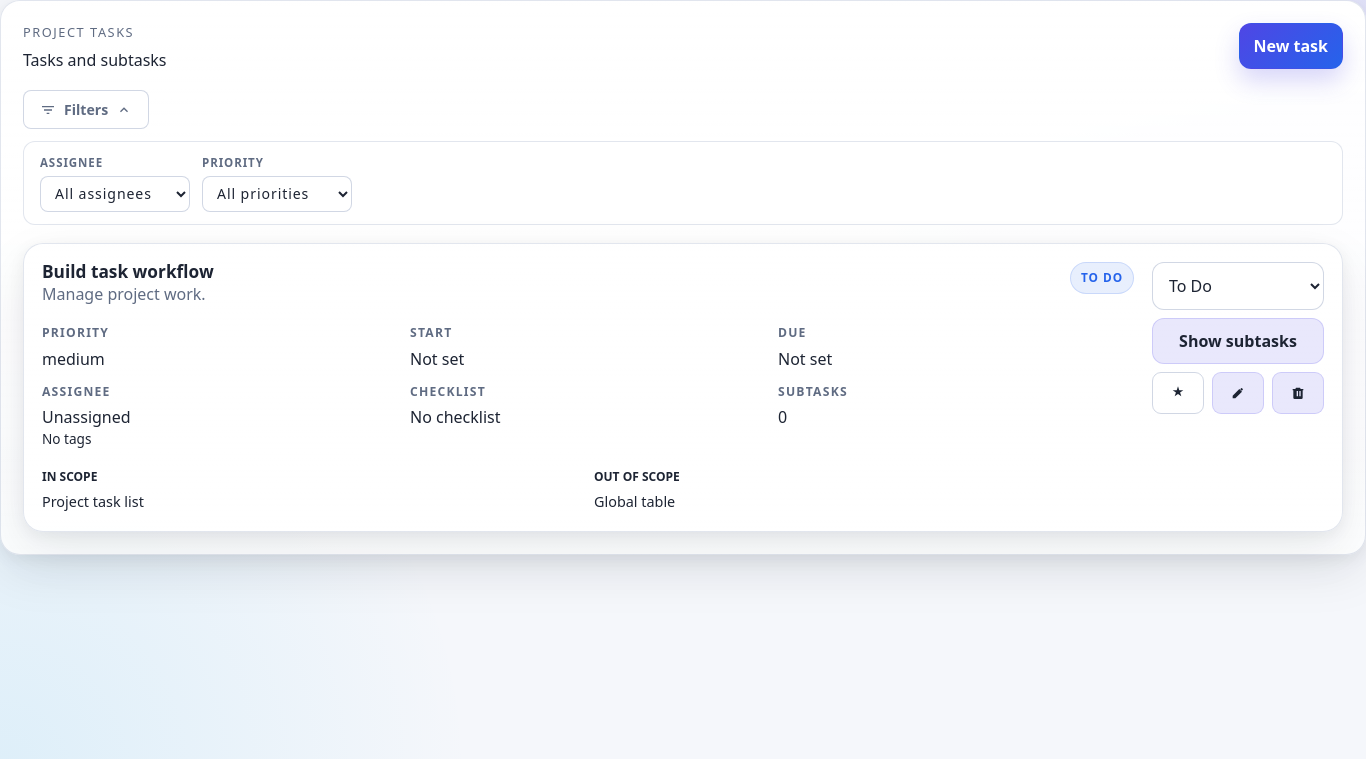
Test: ProjectTasksPanel subtask layout › opens subtask editing in a focused dialog and hides the active subtask actions underneath
Click the button "Show subtasks": (1238, 341) x1=1152 y1=318 x2=1324 y2=364
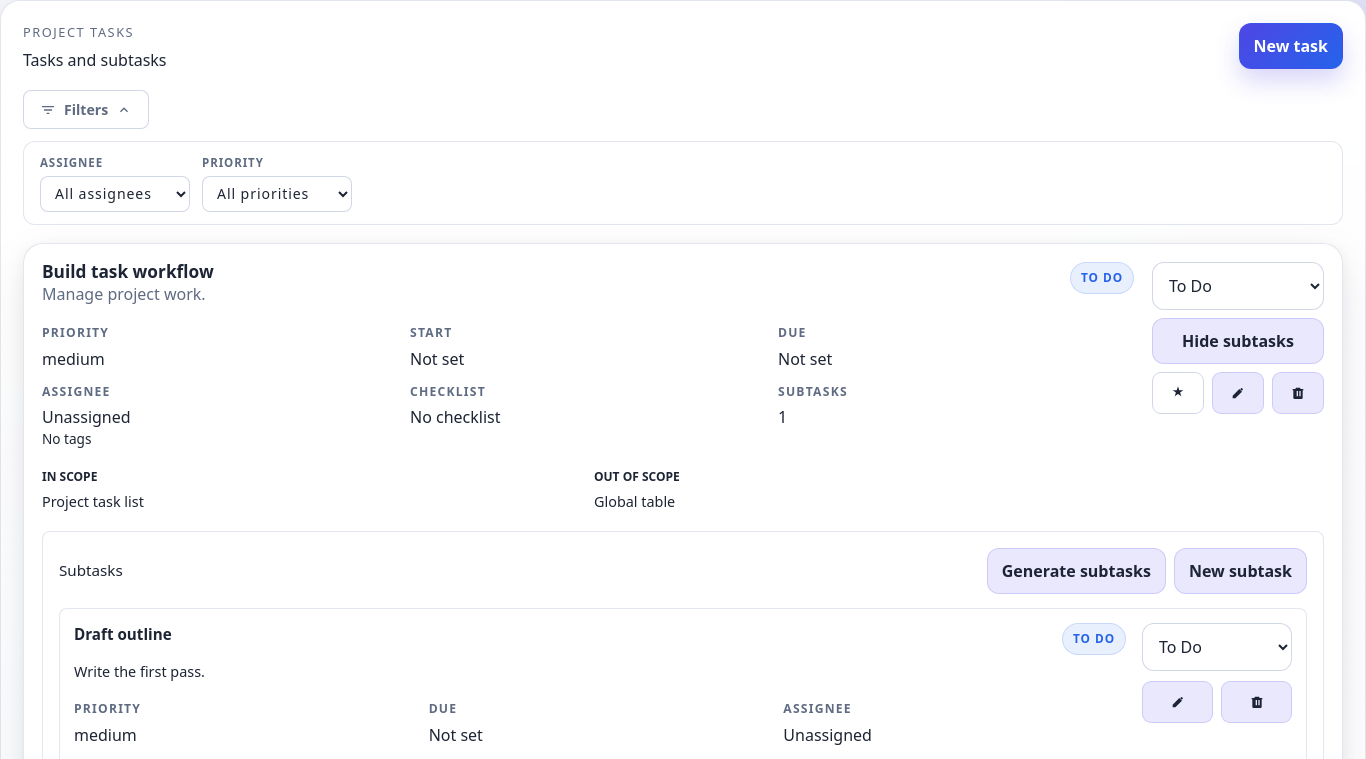
Click the 2nd button named "Edit": (1178, 702) x1=1142 y1=681 x2=1213 y2=723
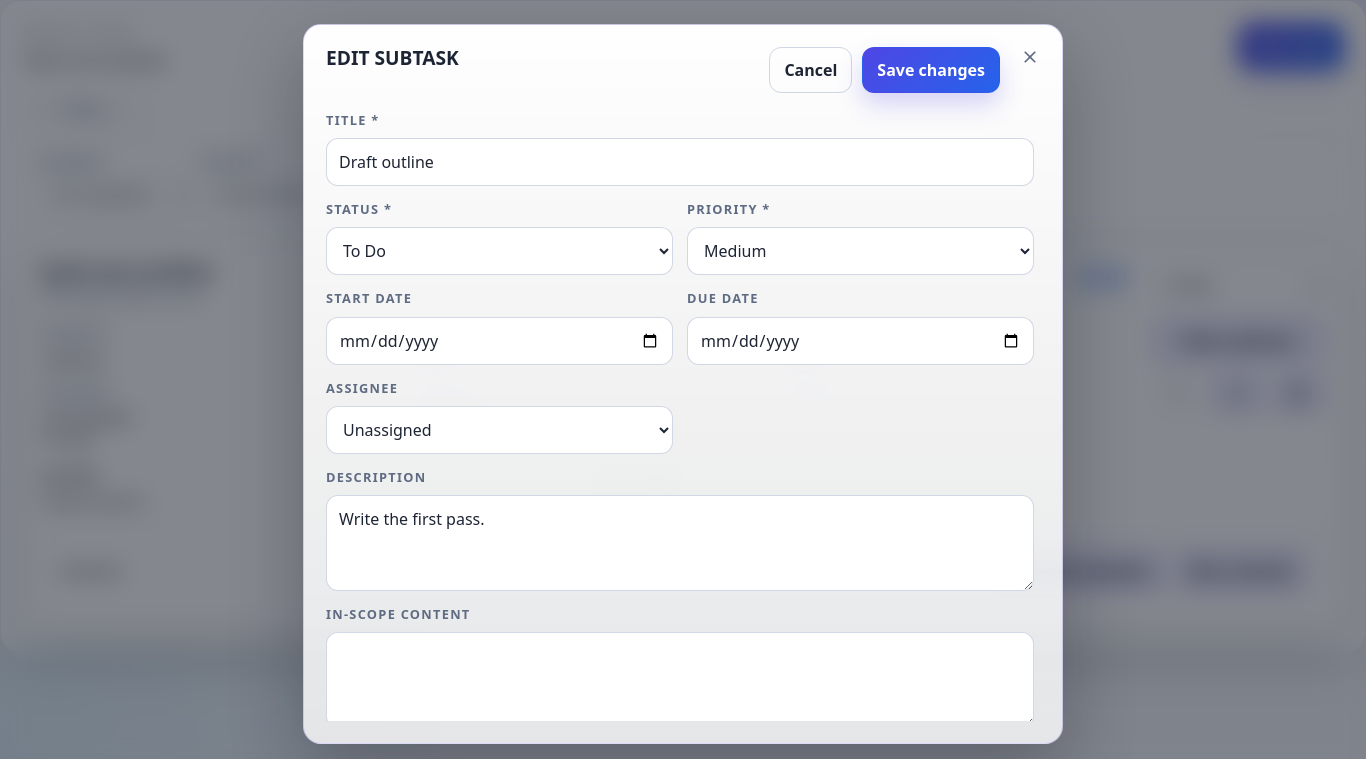
Check: the dialog "EDIT SUBTASK" is shown, box x1=303 y1=24 x2=1063 y2=744
Replace the text in the field labelled "Title *" with "Updated outline": (680, 162) x1=326 y1=138 x2=1034 y2=186
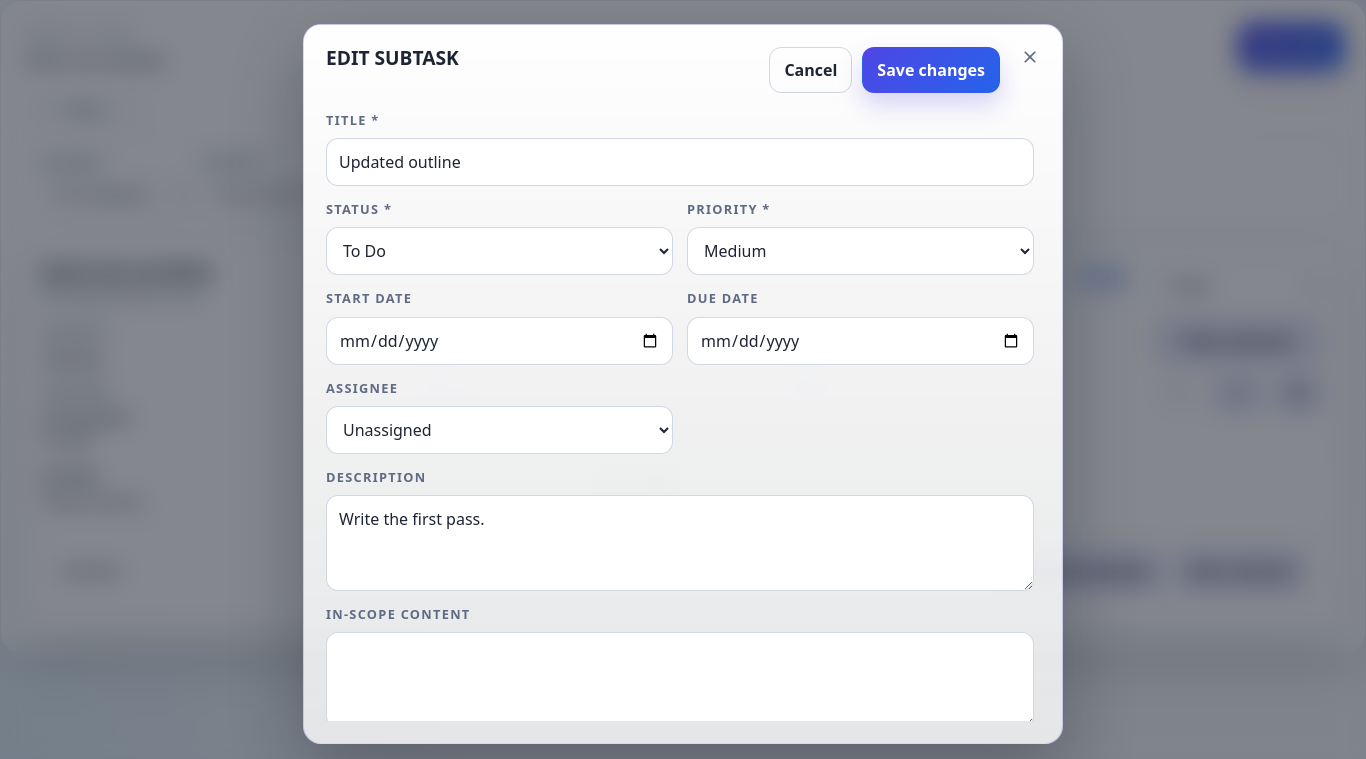
Click the button "Save changes": (931, 70) x1=862 y1=47 x2=1000 y2=93
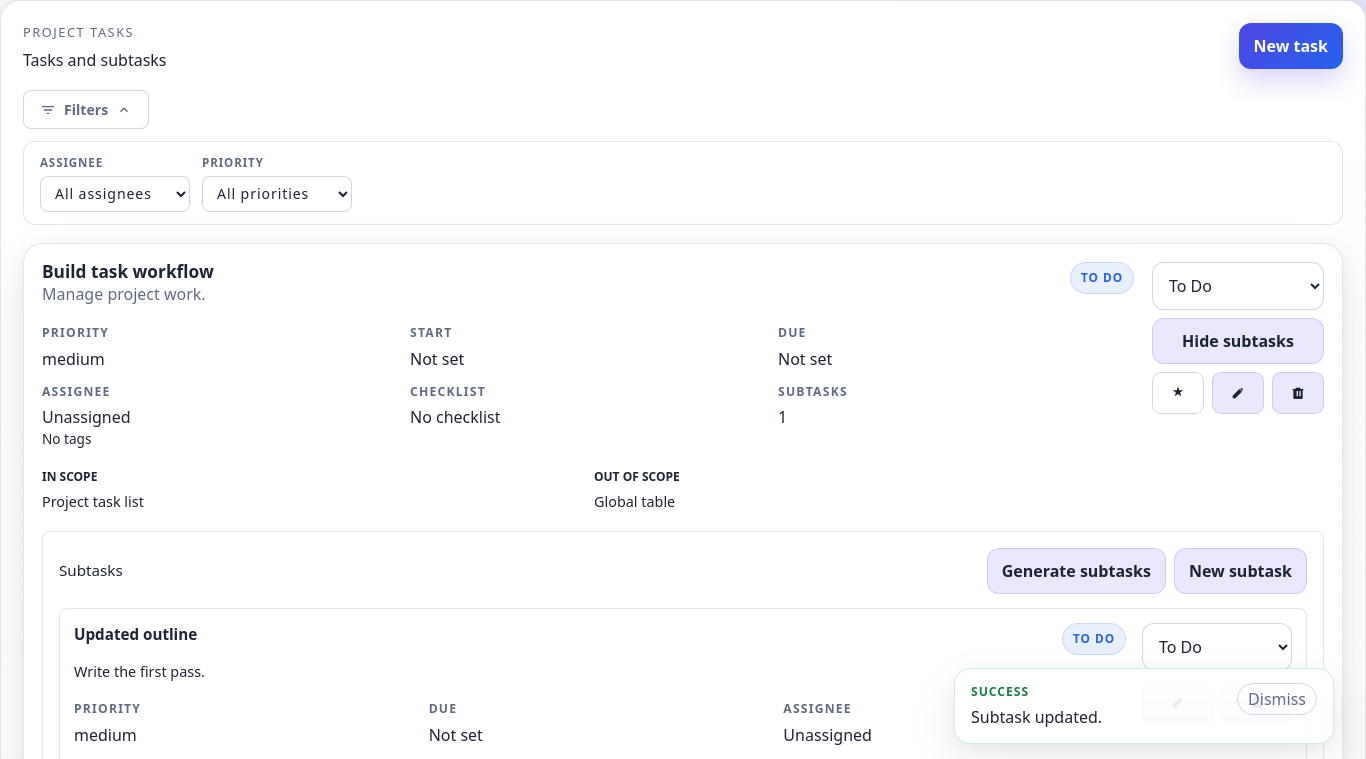
Check: the heading "Updated outline" is shown, box x1=74 y1=623 x2=197 y2=646
Check: the message shows "Subtask updated.", box x1=971 y1=706 x2=1102 y2=728
